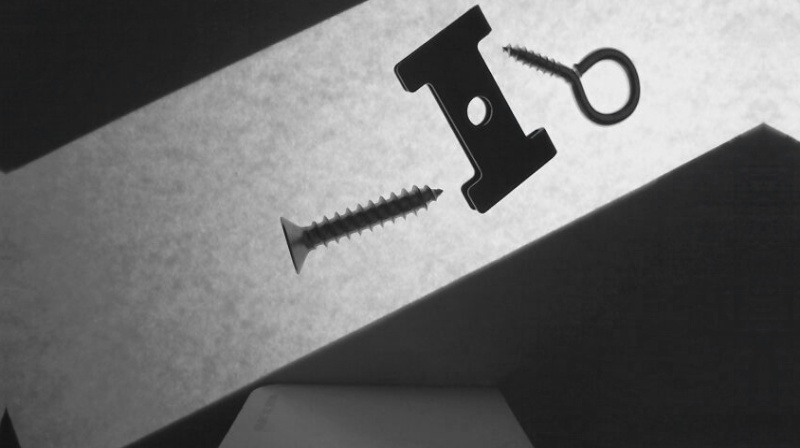O001: (500, 41, 642, 128)
O002: (389, 3, 558, 212)
S001: (279, 183, 444, 274)
